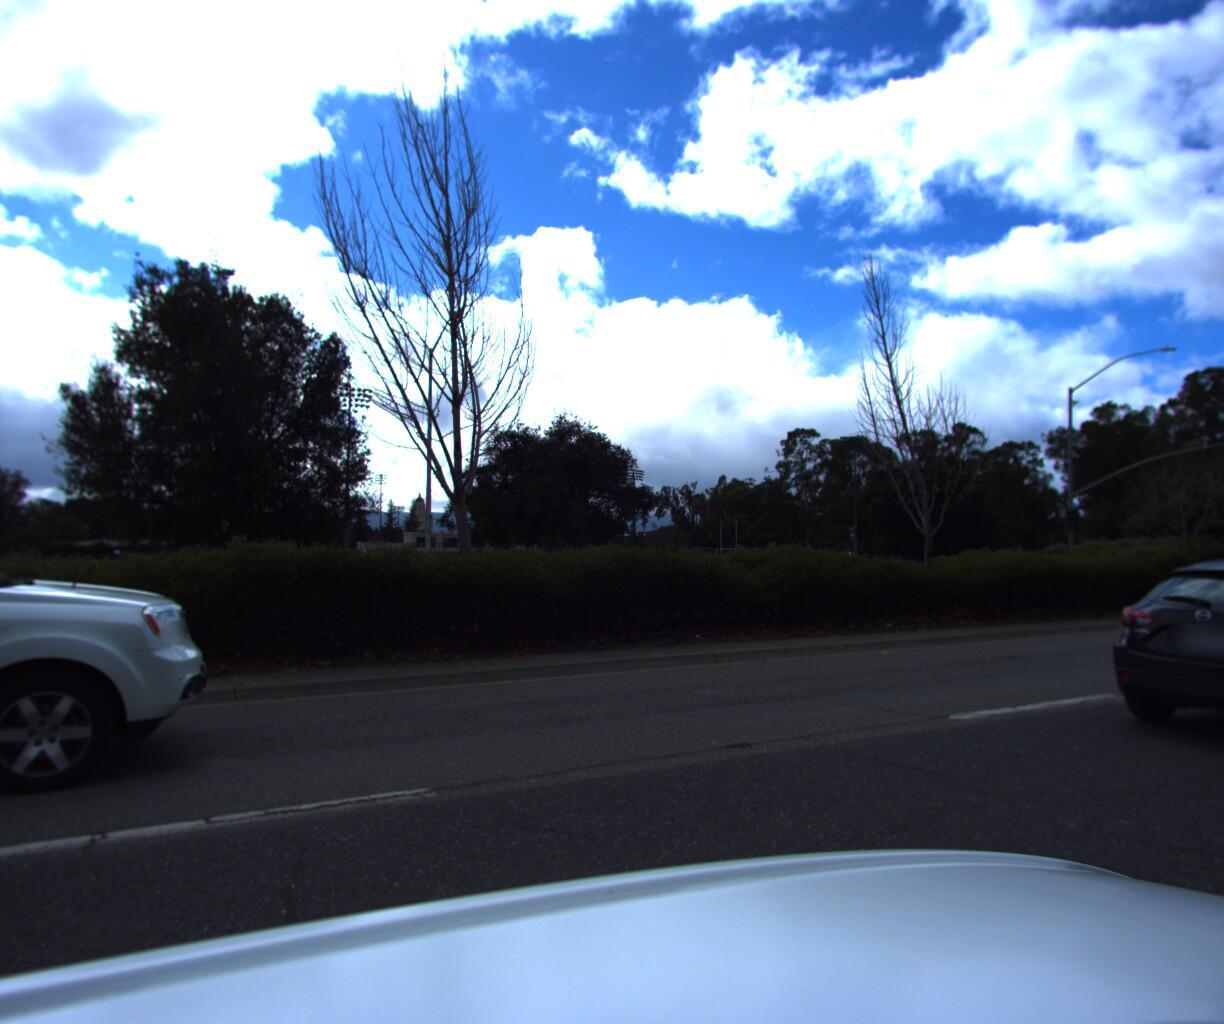car: (0, 437, 255, 963), (1056, 551, 1224, 789)
